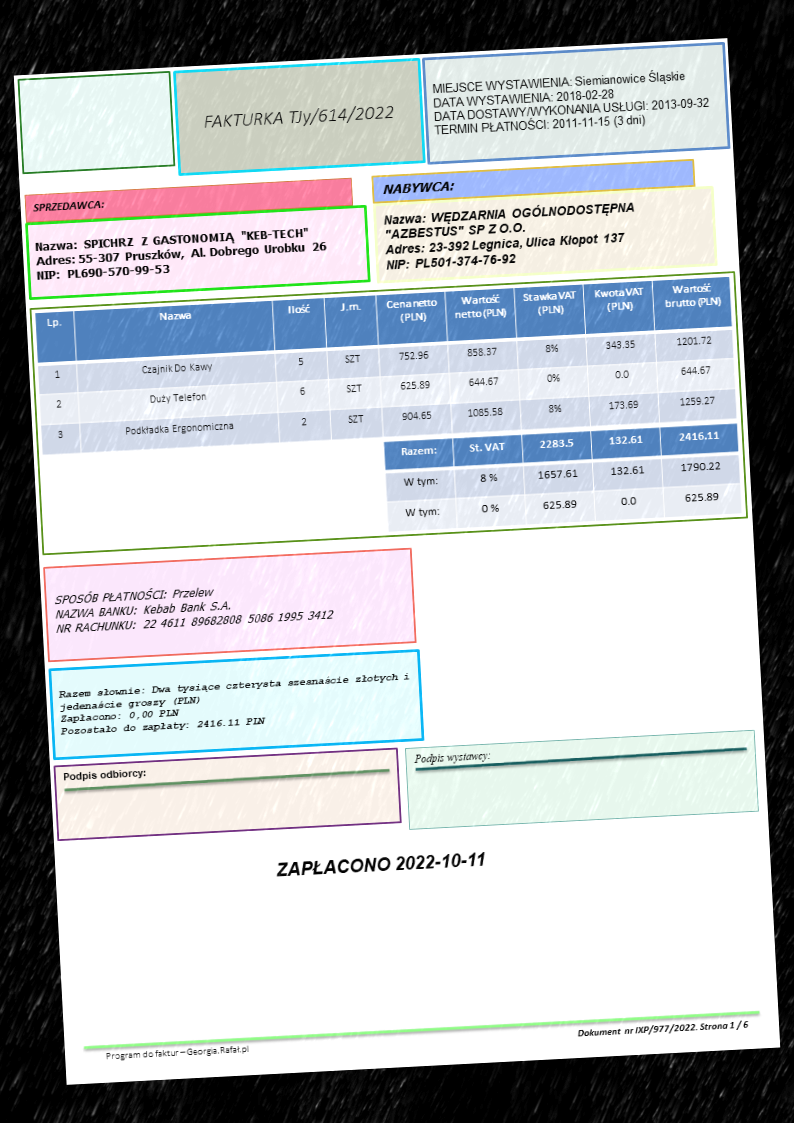Table: (33, 275, 737, 455), (383, 421, 743, 533)
TextBox: (57, 670, 412, 738), (429, 66, 712, 140), (380, 199, 639, 272), (33, 224, 328, 283), (51, 577, 335, 636), (273, 847, 488, 879), (200, 102, 395, 131), (575, 1018, 750, 1040), (103, 1043, 251, 1063), (60, 765, 148, 785), (411, 746, 491, 768), (29, 196, 106, 216), (380, 178, 456, 197)
